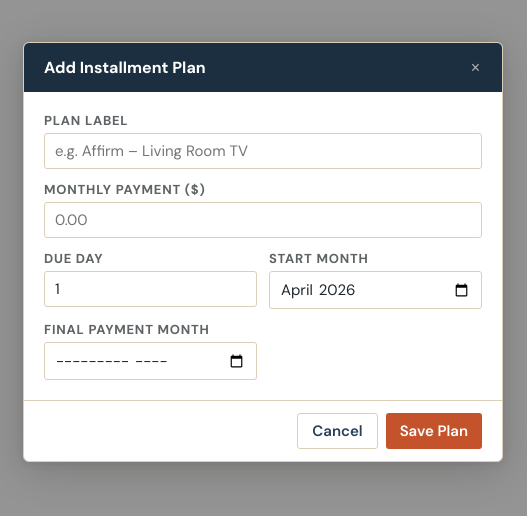
AffirmForm — validation › shows error when amount is missing on save
Type "Amazon Card" into the field labelled "Plan Label". click: (263, 151)
box: 44,133 -> 482,169
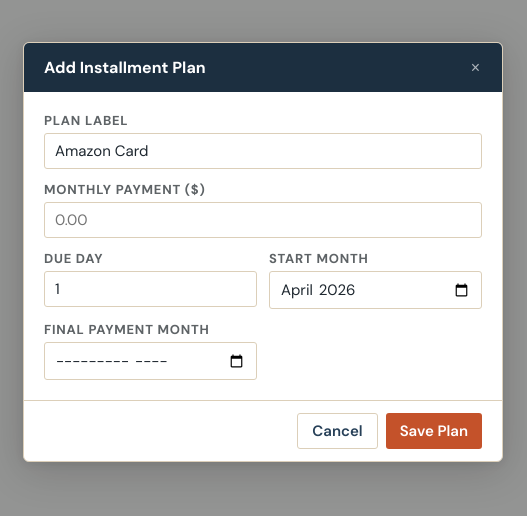
Click the button "Save Plan". click: (434, 431)
box: 386,413 -> 482,449
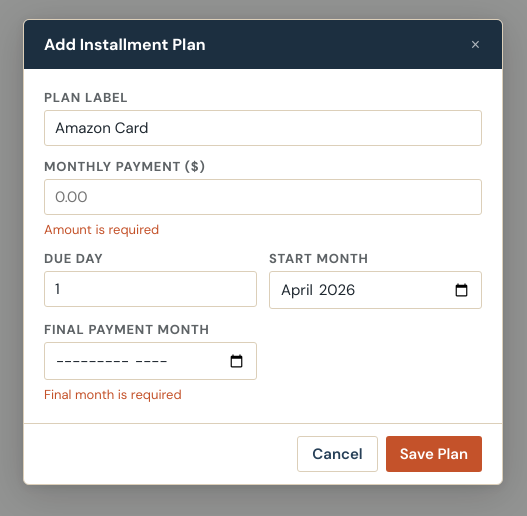
Result: the text "Amount is required" is shown at 44,221 -> 159,238
